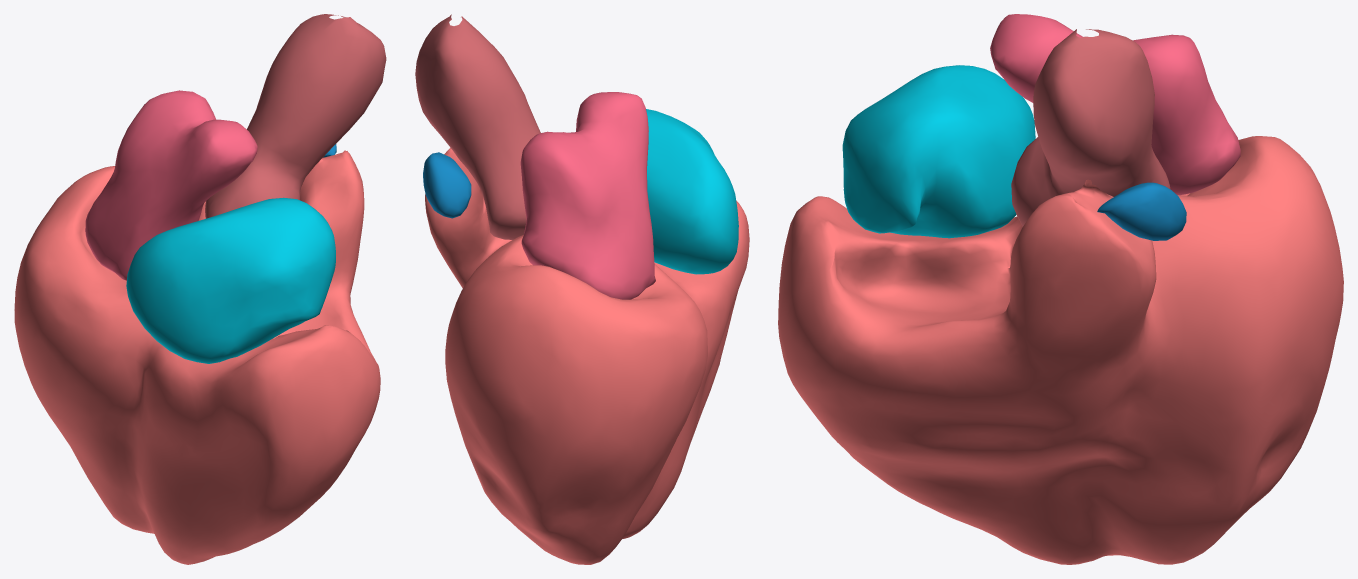
The model's file is frame_65.glb.
The picture shows the model from 3 angles, left to right: view 1: azimuth 30°, elevation 25°; view 2: azimuth 150°, elevation 25°; view 3: azimuth 270°, elevation 25°; orthographic projection. The views are drawn at different scales.
Parts seen in each view (by area): view 1: Renderer Node; view 2: Renderer Node; view 3: Renderer Node.
Boxes of the visible parts, x1=… form: Renderer Node: x1=14, y1=14, x2=386, y2=564; Renderer Node: x1=415, y1=14, x2=749, y2=564; Renderer Node: x1=778, y1=14, x2=1343, y2=564.
Bounding box in the file's own units: 104 × 159 × 129.
